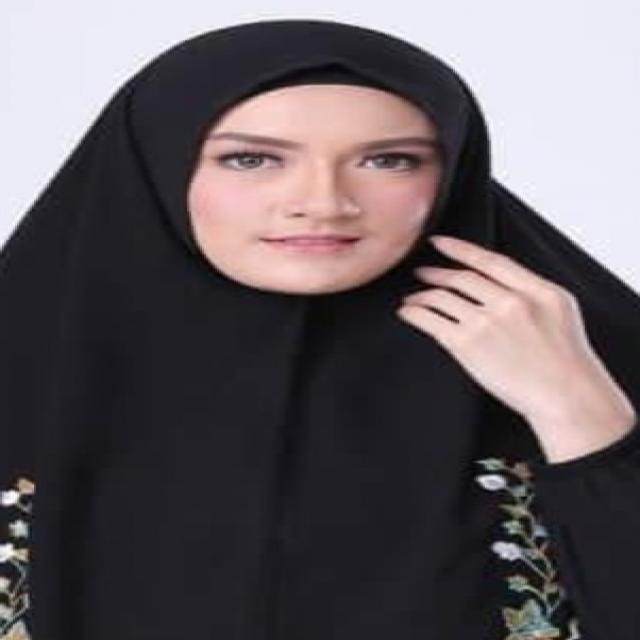head: (129, 27, 490, 316)
